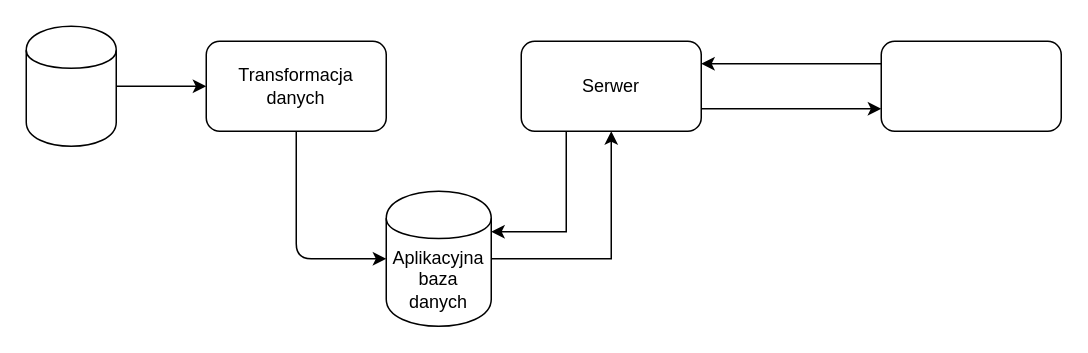
Image size: 1088x353. Some labels were removed from this diagram. Here are the shapes that lost their labels. From the top down, the centre of each, then its label:
At [70,85]: "HMDB".
At [970,85]: "Przeglądarka internetowa".
